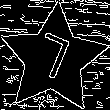L_SW: (30, 30, 77, 89)
